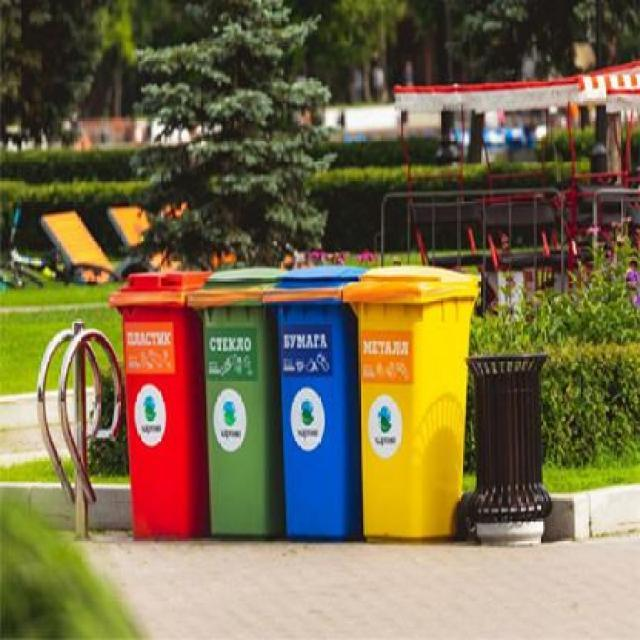garbage container: (359, 258, 487, 551), (107, 263, 207, 542), (275, 259, 358, 552), (207, 264, 283, 550)
